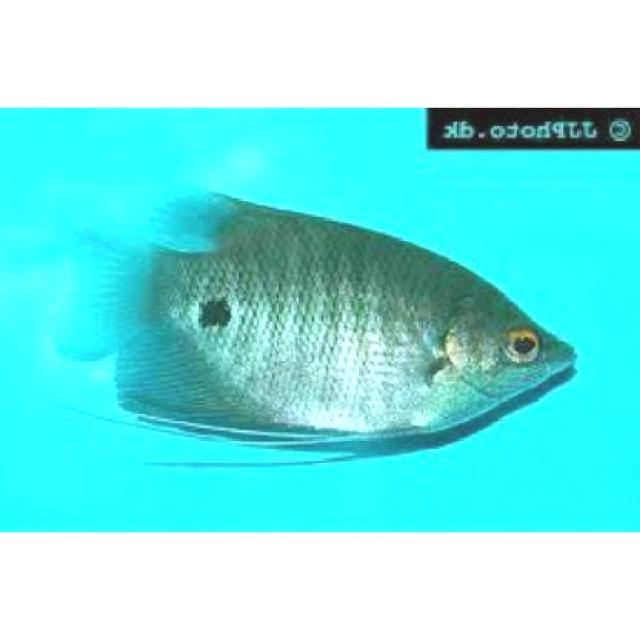gurame: (56, 187, 584, 453)
